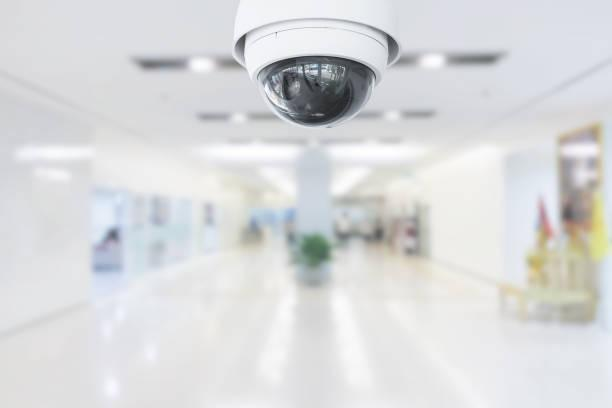camera: (223, 0, 408, 134)
